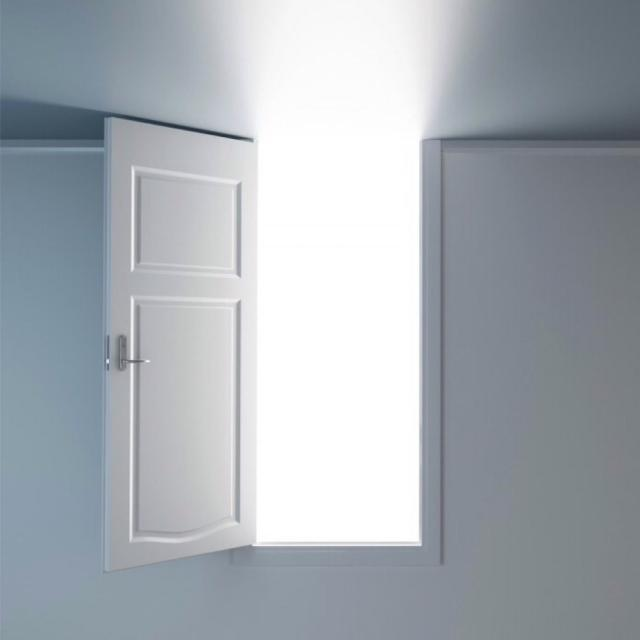open: (108, 118, 446, 562)
